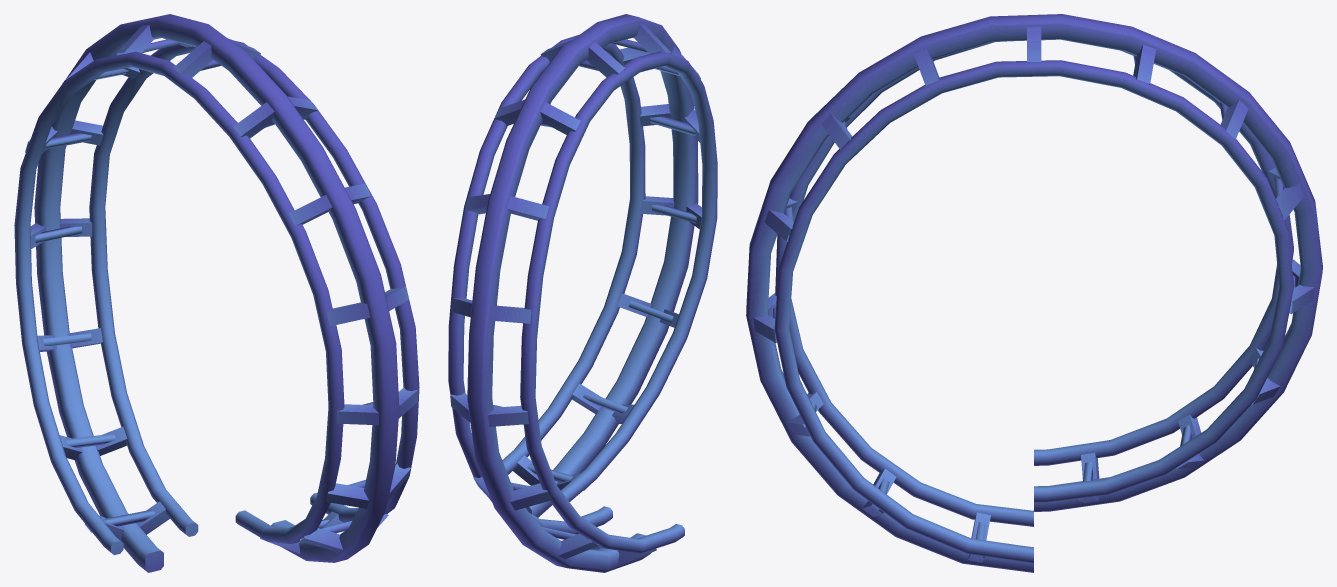
The model's file is coaster-steel-looping.glb.
3 renders of one model, left to right at view 1: azimuth 30°, elevation 25°; view 2: azimuth 150°, elevation 25°; view 3: azimuth 270°, elevation 25°, orthographic. The views are drawn at different scales.
Parts seen in each view (by area): view 1: coaster-steel-looping; view 2: coaster-steel-looping; view 3: coaster-steel-looping.
Boxes of the visible parts, bbox=[...] form: coaster-steel-looping: bbox=[14, 14, 419, 572]; coaster-steel-looping: bbox=[448, 14, 717, 572]; coaster-steel-looping: bbox=[746, 14, 1322, 572].
Bounding box in the file's own units: 5.1 × 11.97 × 11.98.
1 material, 1 textured.
